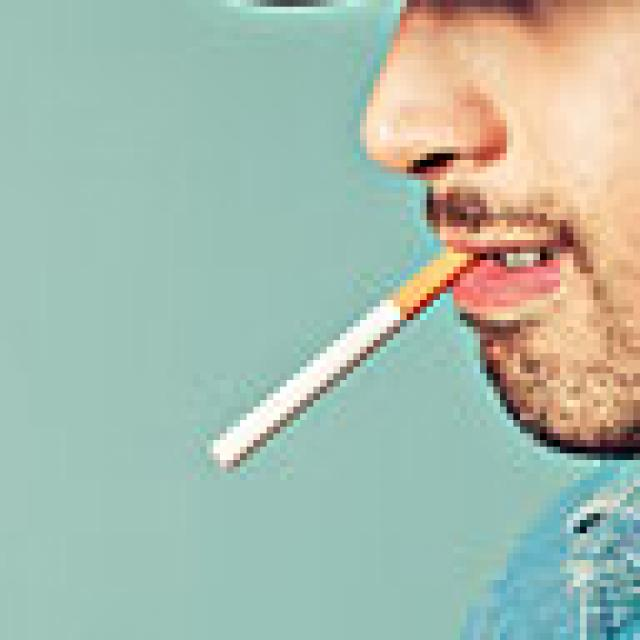smoking: (210, 248, 472, 472)
